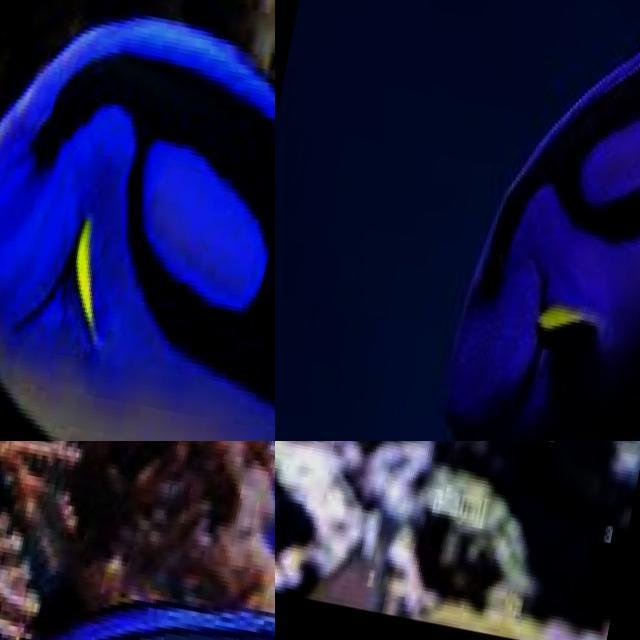BlueTang: (0, 0, 275, 441)
